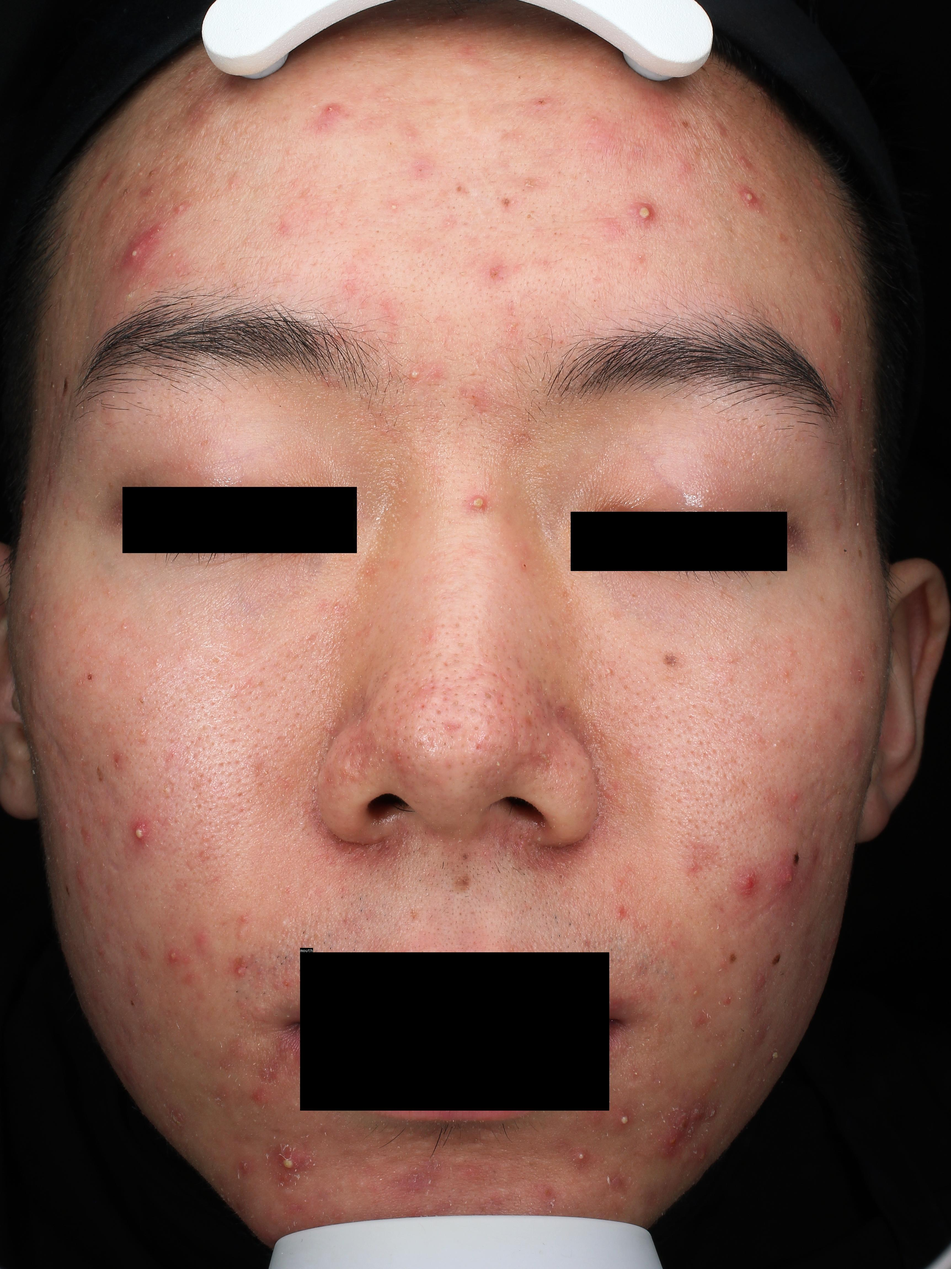atrophic_scar: (46, 733, 70, 765), (842, 470, 851, 514), (819, 793, 837, 809), (163, 777, 174, 798), (108, 856, 120, 873), (196, 849, 210, 863), (811, 820, 821, 837), (592, 274, 606, 286), (185, 858, 194, 873), (201, 440, 210, 446), (170, 751, 176, 758)
closed_comedo: (606, 667, 613, 675), (305, 634, 312, 641), (729, 657, 736, 663), (708, 655, 714, 662), (217, 153, 223, 160), (228, 183, 235, 188), (76, 508, 81, 514), (53, 623, 58, 629), (638, 254, 643, 260), (601, 786, 606, 792), (772, 742, 777, 748), (138, 171, 144, 176), (35, 564, 40, 569), (139, 731, 144, 736), (782, 671, 787, 676), (282, 920, 287, 925), (540, 333, 545, 338), (288, 149, 293, 154), (407, 135, 413, 139), (107, 728, 111, 733), (385, 96, 390, 100), (447, 221, 452, 225), (789, 651, 794, 655), (518, 134, 522, 138), (483, 851, 487, 855), (568, 860, 572, 864), (167, 253, 171, 257), (28, 555, 31, 560), (148, 626, 151, 630), (106, 591, 110, 594), (15, 654, 18, 657), (637, 680, 640, 683), (335, 605, 338, 607), (480, 313, 482, 315)
hypertrophic_scar: (465, 1140, 488, 1154), (478, 1131, 500, 1142), (279, 1188, 295, 1198), (450, 1156, 467, 1165), (389, 1135, 400, 1144), (412, 1150, 426, 1156), (383, 1128, 396, 1134), (406, 1131, 415, 1138)
melasma: (762, 564, 770, 578), (108, 482, 115, 491), (63, 519, 70, 527), (858, 548, 863, 558)
nevus: (453, 873, 473, 895), (662, 654, 682, 668), (60, 375, 70, 400), (791, 851, 802, 867), (771, 952, 781, 967), (680, 117, 691, 130), (728, 952, 738, 963), (130, 999, 136, 1007), (461, 854, 468, 860), (843, 547, 848, 552)
open_comedo: (483, 692, 493, 700), (558, 872, 565, 881), (456, 185, 463, 193), (469, 707, 477, 714), (525, 213, 532, 220), (139, 697, 146, 704), (559, 338, 565, 344), (474, 725, 479, 731), (553, 231, 557, 236), (376, 229, 380, 234), (517, 75, 521, 79), (593, 298, 597, 302), (326, 659, 329, 664), (586, 180, 590, 183), (522, 188, 525, 192), (389, 142, 393, 145), (320, 98, 323, 101), (416, 161, 419, 164)
other: (496, 760, 501, 767), (733, 1063, 735, 1067), (279, 405, 281, 407)
papule: (123, 234, 151, 269), (733, 865, 763, 897), (226, 1038, 247, 1062), (486, 264, 507, 282), (674, 1112, 690, 1133), (854, 385, 865, 414), (98, 170, 113, 191), (589, 1106, 605, 1125), (530, 97, 551, 110), (718, 994, 736, 1009), (830, 312, 842, 333), (66, 241, 78, 262), (712, 120, 727, 135), (613, 905, 629, 919), (169, 1107, 185, 1121), (690, 1107, 705, 1121), (694, 1012, 707, 1028), (81, 826, 91, 846), (252, 1090, 266, 1104), (239, 1158, 252, 1172), (755, 975, 768, 989), (696, 1147, 706, 1162), (185, 66, 197, 78), (739, 155, 749, 169), (465, 1166, 477, 1177), (174, 202, 185, 214), (708, 1107, 718, 1120), (415, 165, 427, 175), (790, 790, 800, 801), (679, 162, 690, 172), (344, 281, 354, 292), (687, 860, 698, 870), (112, 754, 120, 766), (508, 322, 518, 331), (813, 177, 822, 187), (790, 176, 799, 186), (542, 1186, 552, 1195), (835, 811, 843, 822), (855, 748, 862, 760), (147, 187, 156, 196), (558, 706, 566, 715), (240, 915, 250, 922), (61, 821, 68, 831), (77, 871, 82, 884), (236, 931, 244, 939), (539, 753, 547, 760), (171, 250, 178, 258), (97, 949, 104, 957), (851, 460, 857, 469), (284, 981, 290, 988), (632, 1070, 639, 1076), (361, 852, 367, 858), (693, 989, 699, 995), (347, 846, 352, 853), (446, 724, 451, 730), (522, 563, 528, 568), (518, 835, 523, 841), (166, 758, 171, 763)
pustule: (276, 1147, 305, 1174), (129, 817, 151, 850), (628, 200, 655, 225), (775, 865, 795, 891), (613, 1108, 634, 1128), (468, 496, 487, 514), (739, 188, 757, 205), (168, 946, 185, 963), (666, 1131, 680, 1151), (574, 1149, 591, 1165), (323, 102, 341, 117), (233, 964, 248, 980), (408, 367, 420, 381), (590, 116, 601, 124), (870, 444, 876, 457), (28, 611, 35, 622), (120, 624, 129, 632), (390, 203, 398, 211), (711, 1076, 719, 1084), (396, 755, 403, 763), (536, 835, 543, 842), (338, 35, 344, 40)
